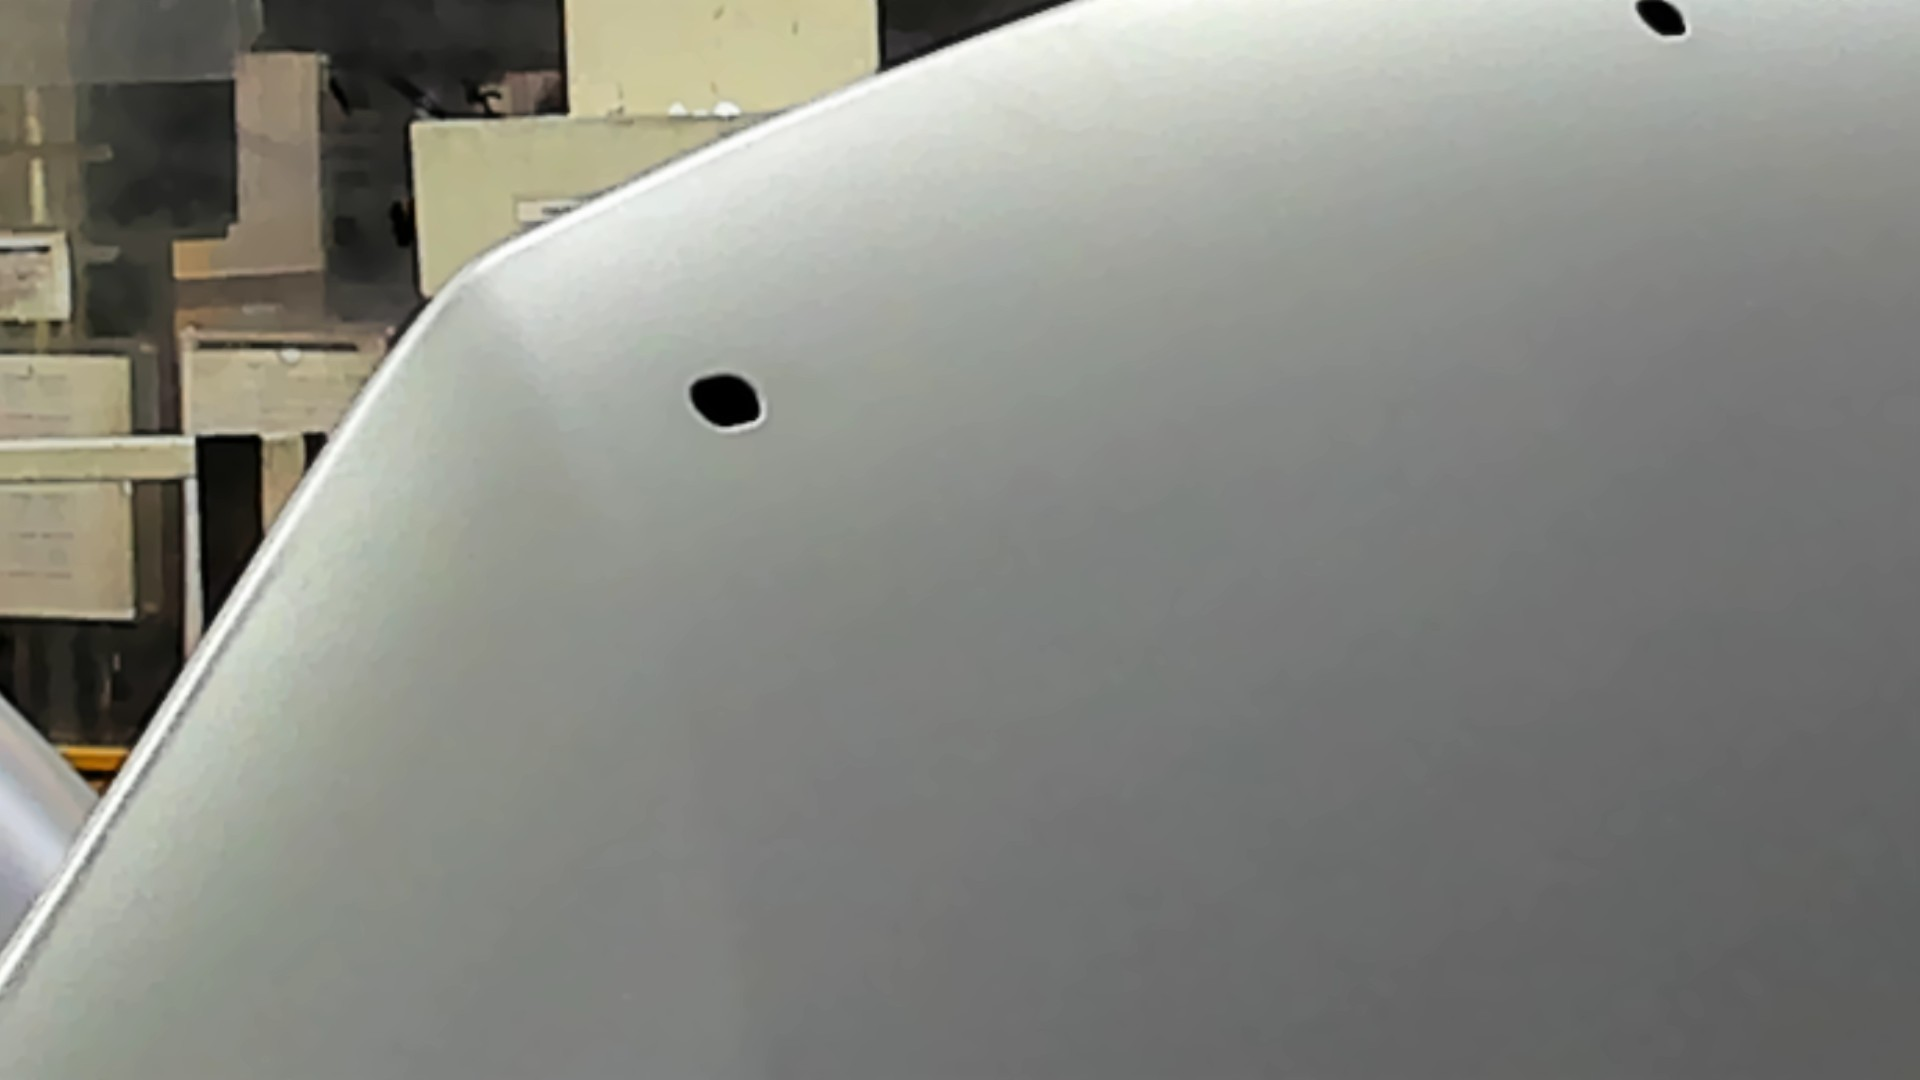amorfo: (684, 363, 771, 436), (1630, 1, 1696, 45)
